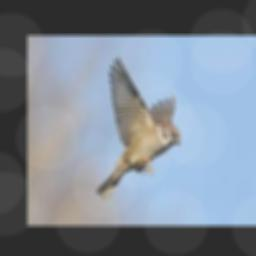Sparrow: (96, 57, 180, 201)
